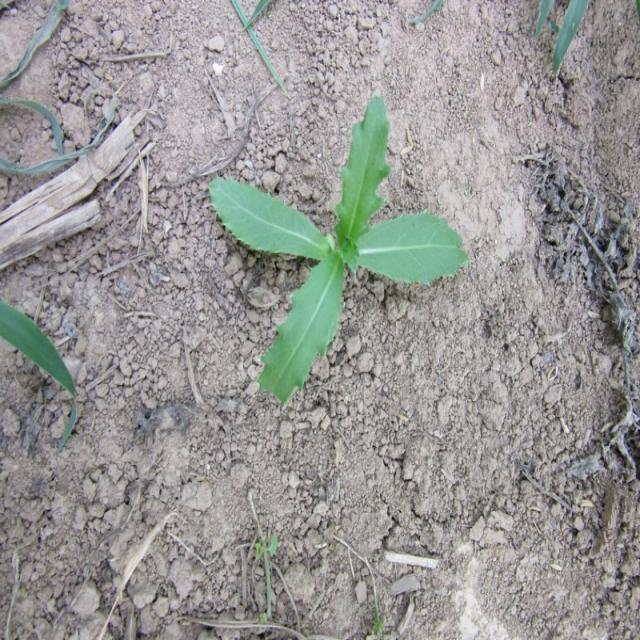cs: (207, 91, 470, 405)
